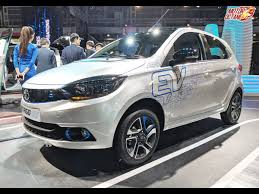Tiago: (16, 24, 244, 168)
